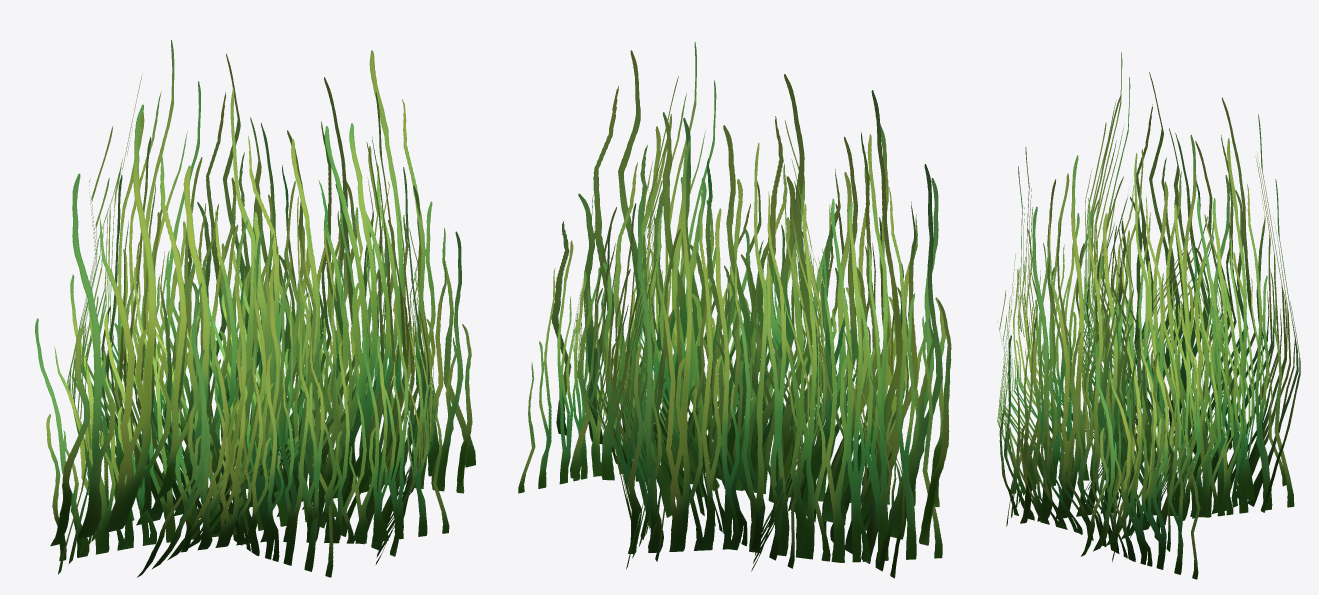
The model's file is Grass.fbx.
3 views of the same model, side by side, from view 1: azimuth 30°, elevation 25°; view 2: azimuth 150°, elevation 25°; view 3: azimuth 270°, elevation 25° (orthographic). The views are drawn at different scales.
Visible parts, largest first — view 1: Grass_big; view 2: Grass_big; view 3: Grass_big.
Part boxes in pixels (x1,y1,x2,y2): Grass_big: [35, 40, 475, 577]; Grass_big: [518, 42, 951, 578]; Grass_big: [997, 52, 1300, 579].
Bounding box in the file's own units: 2.5 × 2.67 × 1.88.
